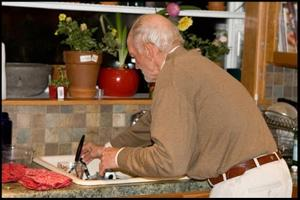person: (79, 13, 295, 199)
